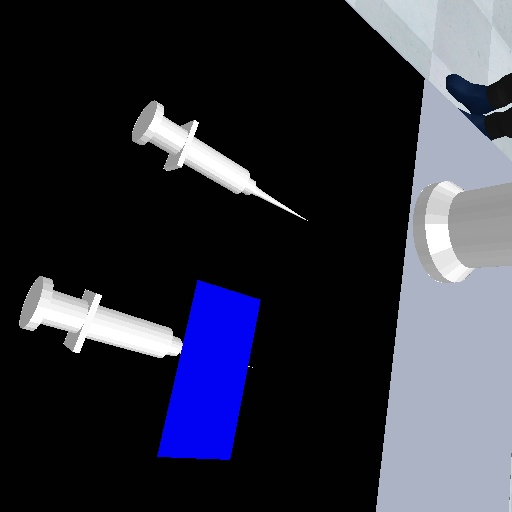jeringuilla: (128, 96, 314, 225), (15, 271, 185, 361)
